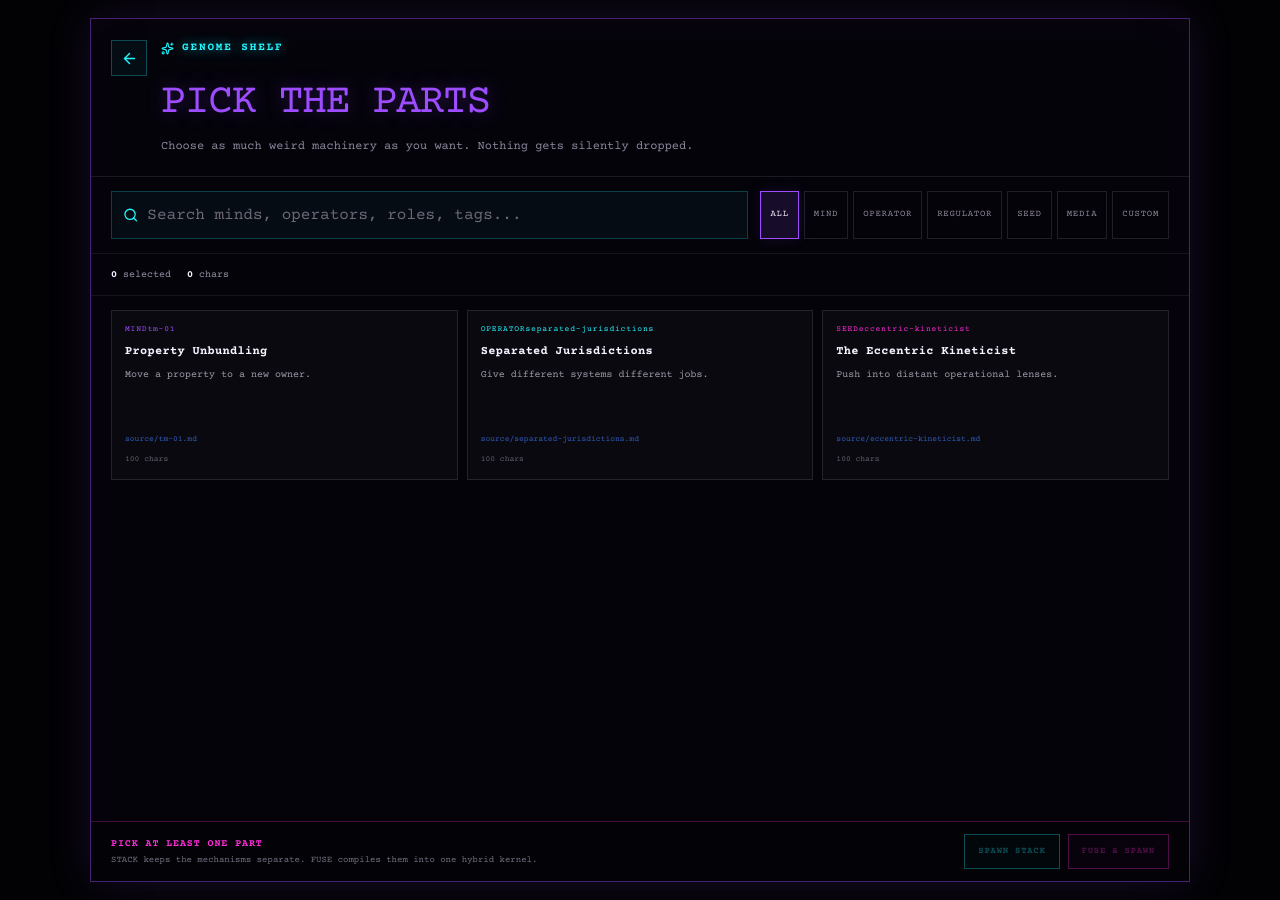
PartPicker › searches the catalog and filters by kind
Type "different jobs" into the search field with placeholder "Search minds, operators, roles, tags..." at (442, 215), box [147,192,736,238]
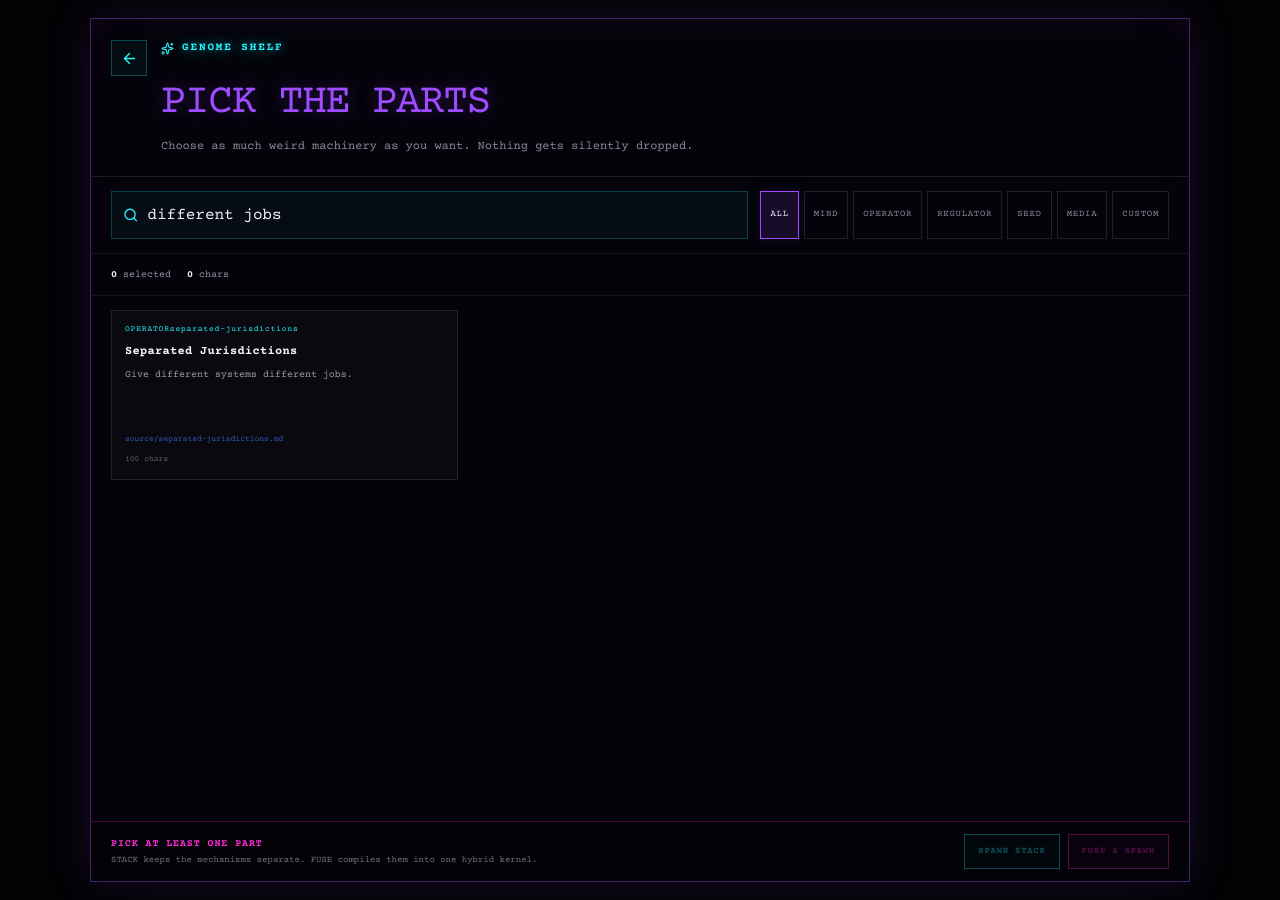
expect the text "Separated Jurisdictions" is shown: met, box [125,344,297,360]
expect the button "Property Unbundling" is gone: met
Clear the search field with placeholder "Search minds, operators, roles, tags..." at (442, 215), box [147,192,736,238]
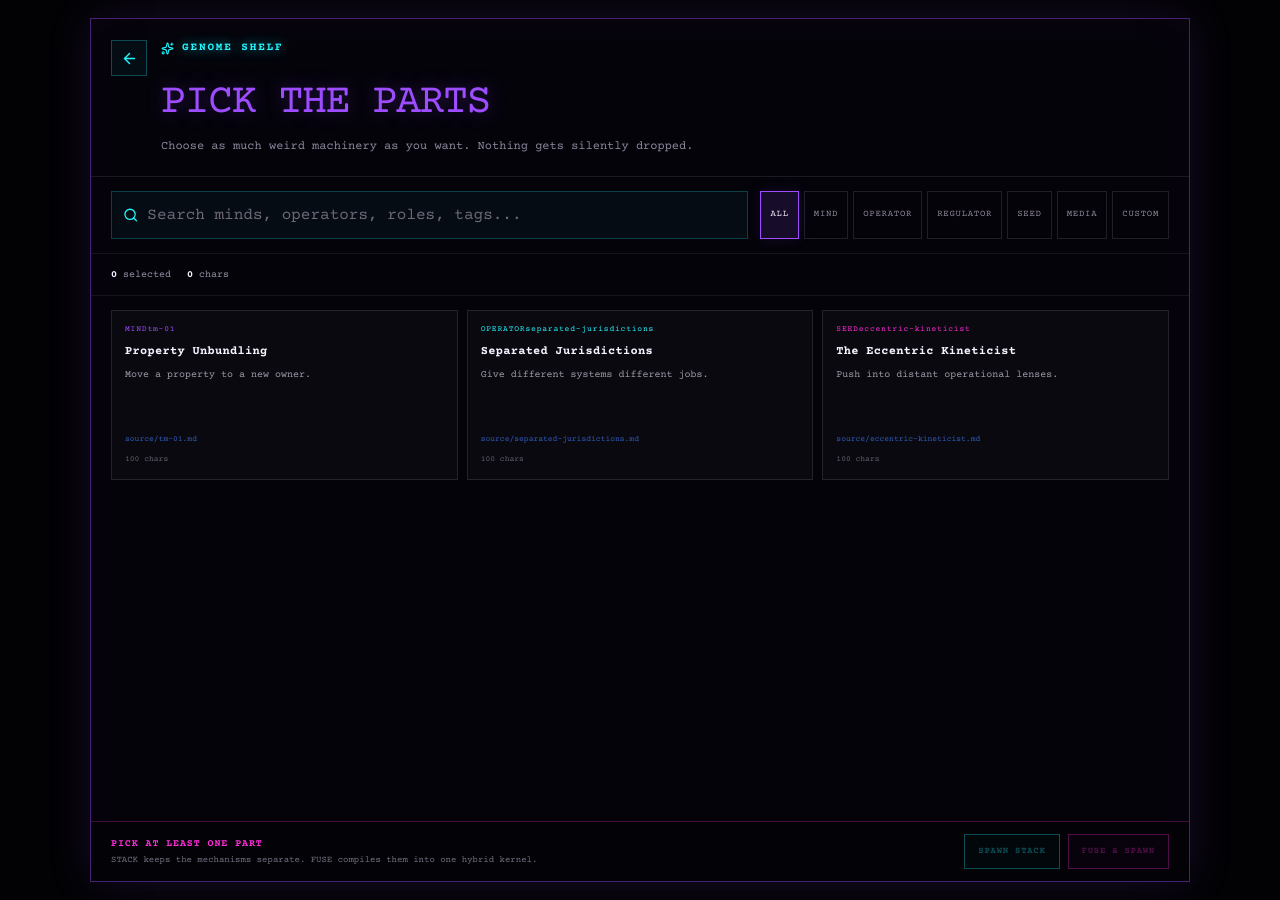
Click the button "SEED" at (1029, 215), box [1007,191,1052,239]
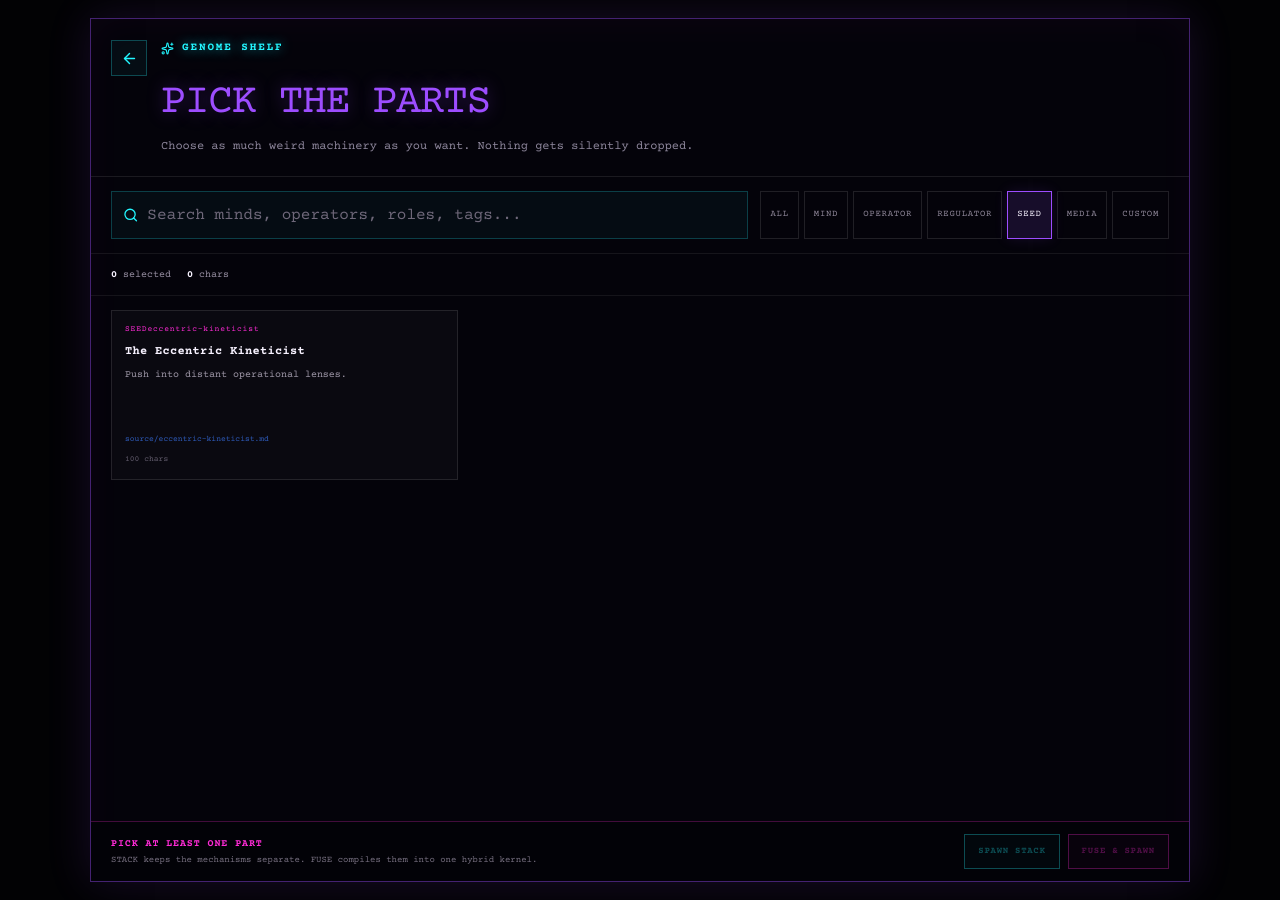
expect the text "The Eccentric Kineticist" is shown: met, box [125,344,305,360]
expect the button "Separated Jurisdictions" is gone: met
